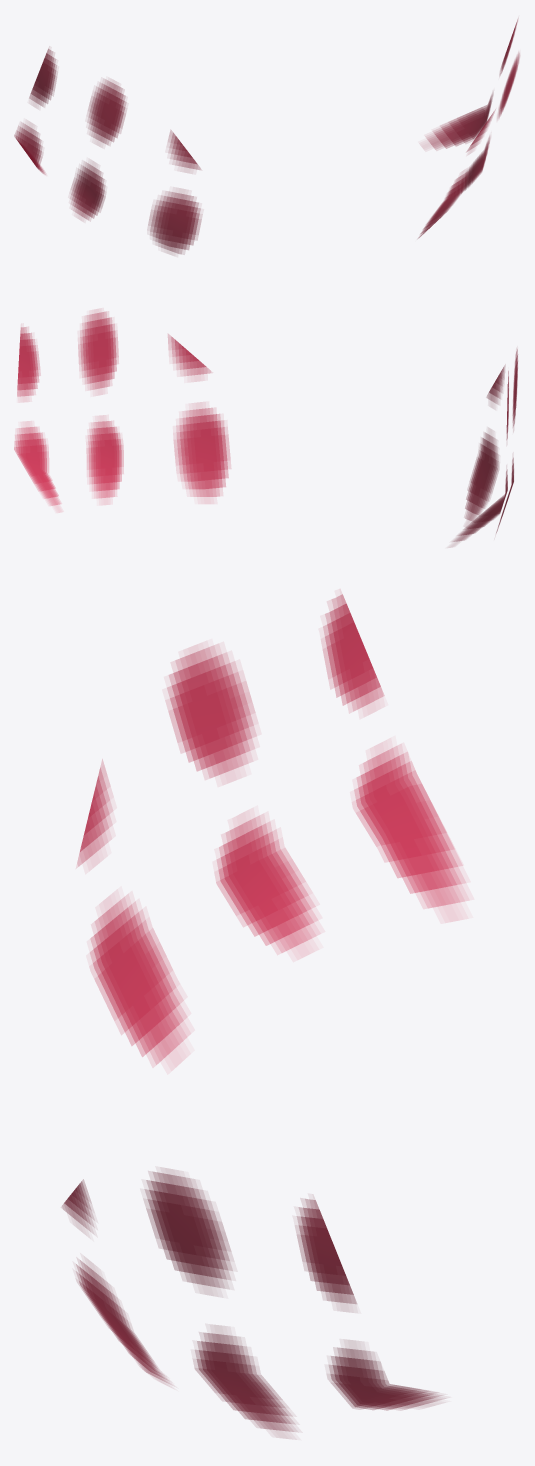
The picture shows the model from 3 angles, top to bottom: view 1: azimuth 30°, elevation 25°; view 2: azimuth 150°, elevation 25°; view 3: azimuth 270°, elevation 25°; orthographic projection. The views are drawn at different scales.
Visible parts, largest first — view 1: ef_514; view 2: ef_514; view 3: ef_514.
Boxes of the visible parts, x1,y1,x2,y2 form: ef_514: (14, 19, 519, 254); ef_514: (14, 309, 517, 547); ef_514: (62, 594, 468, 1438).
Size of the model in its own units: 0.7724 by 0.3838 by 0.329.
Materials: 1 (1 with a texture image).
